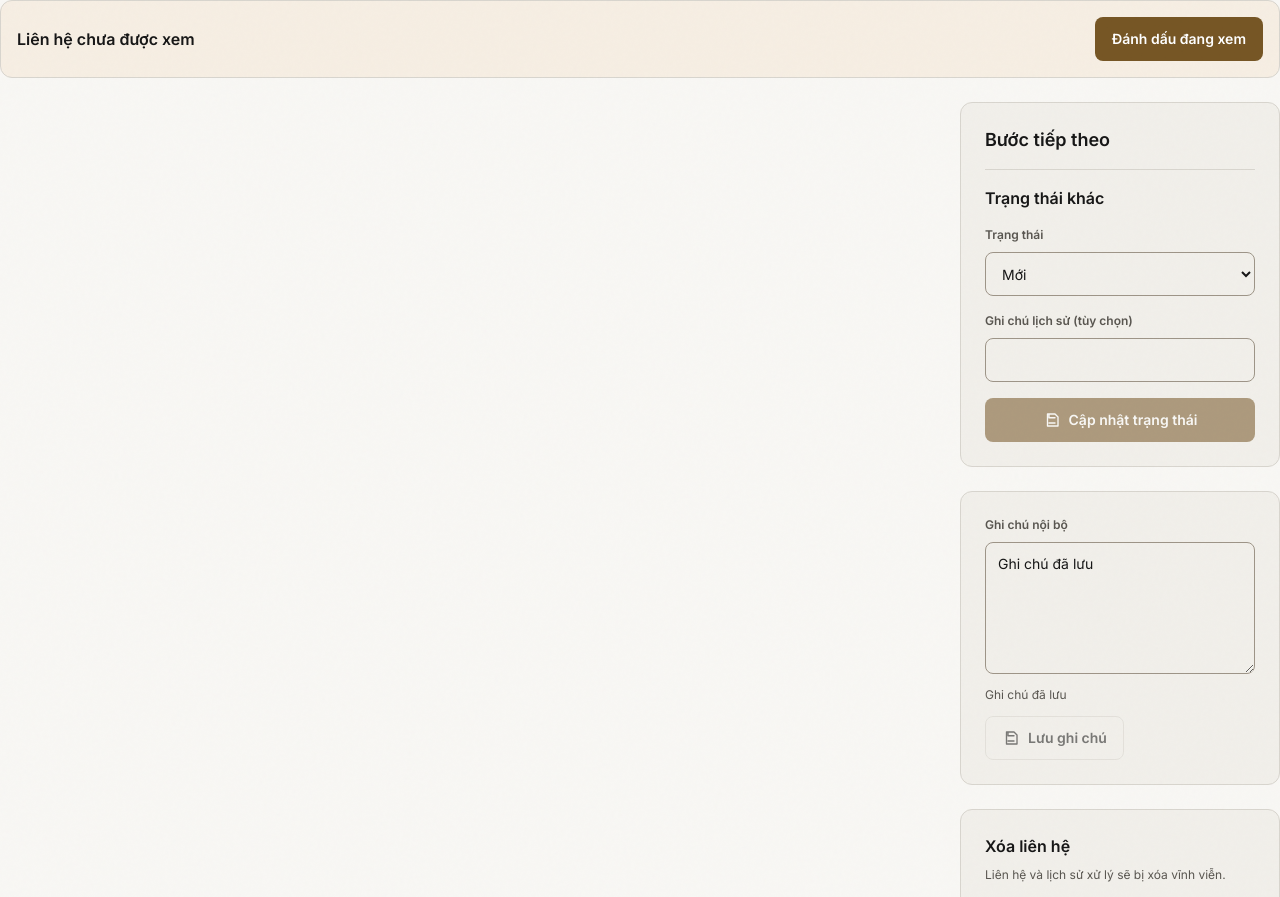
Test: inquiry actions › keeps the draft after failure and allows retry
Replace the text in the text box labelled "Ghi chú nội bộ" with "Bản nháp" at [1120, 608], box [985, 542, 1255, 674]
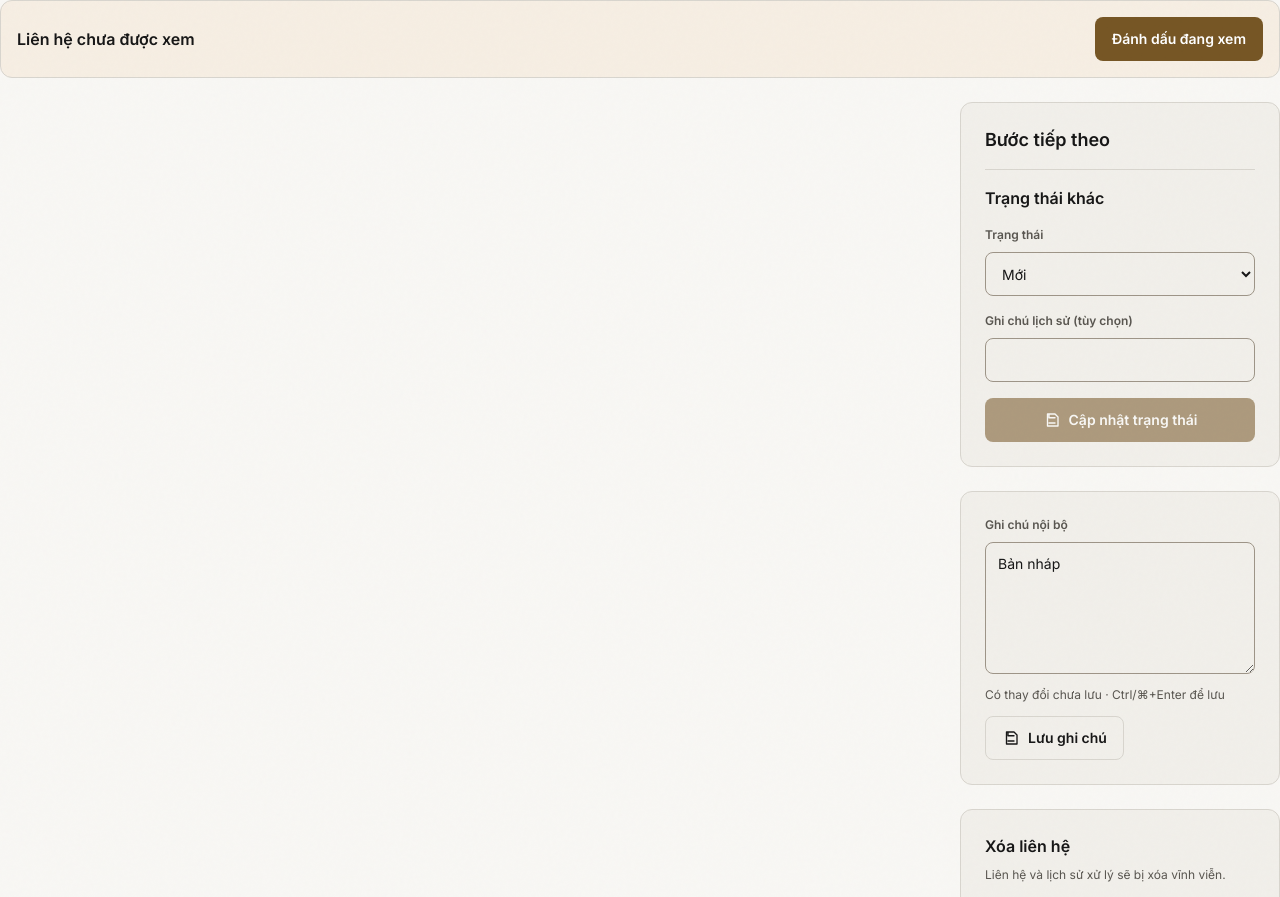
Click the button "Lưu ghi chú" at [1054, 738], box [985, 716, 1124, 760]
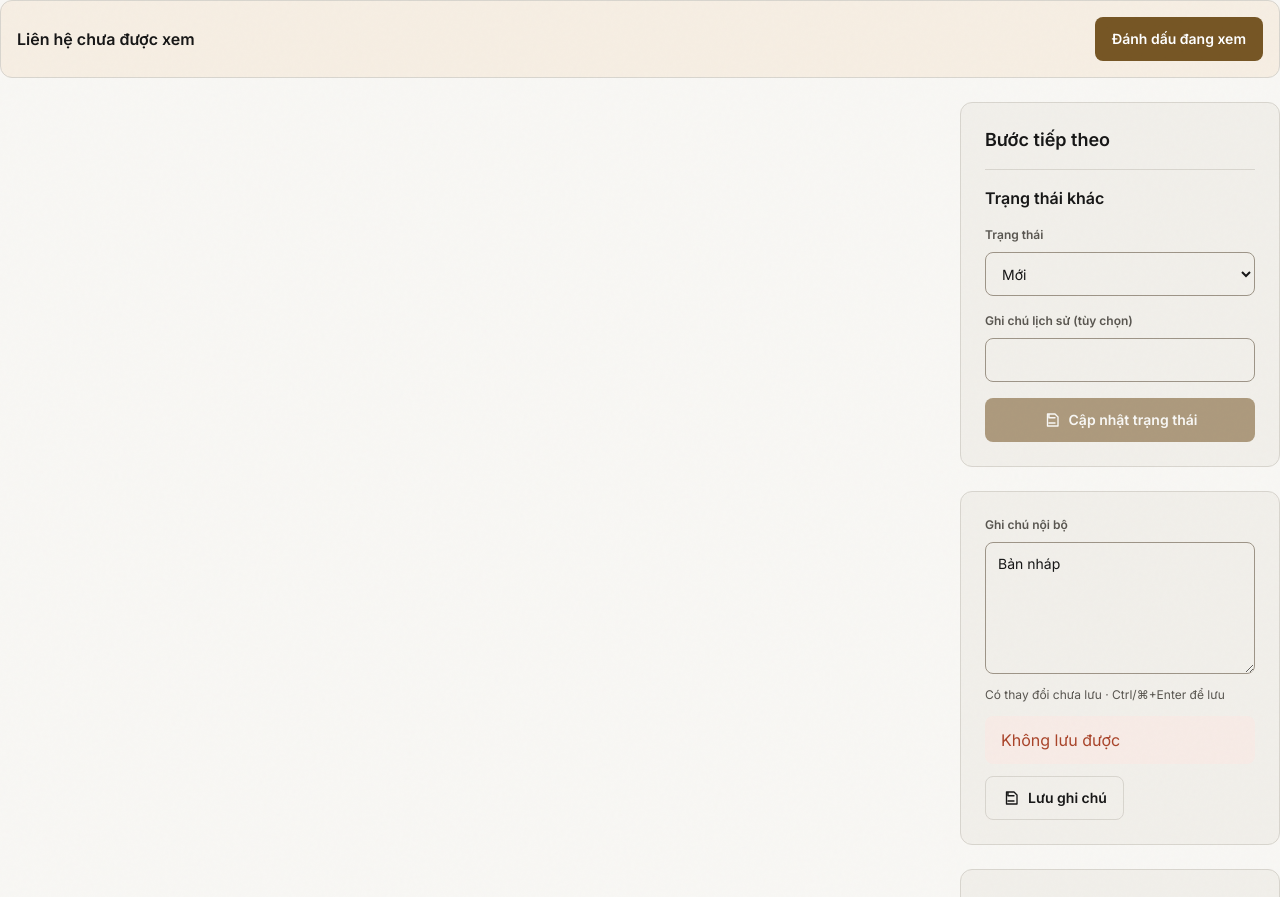
expect the button "Lưu ghi chú" is enabled: met, box [985, 776, 1124, 820]
expect the message reads "Không lưu được": met, box [1001, 730, 1120, 750]
